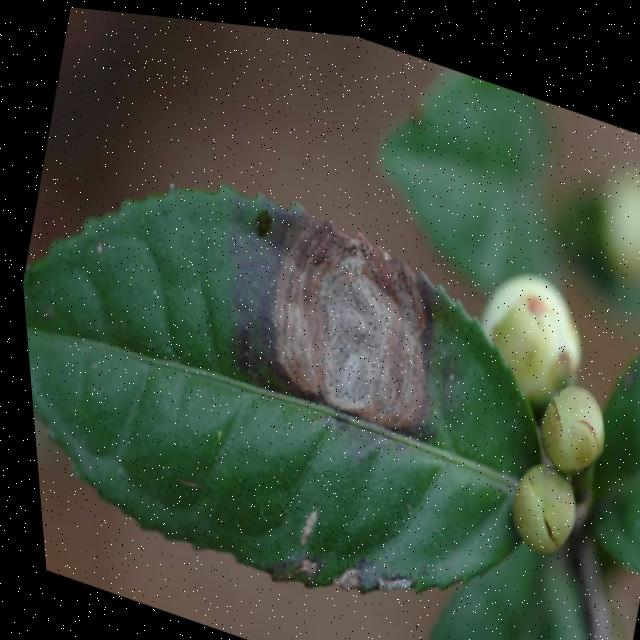Tea cloud leaf blight: (208, 179, 467, 439)
